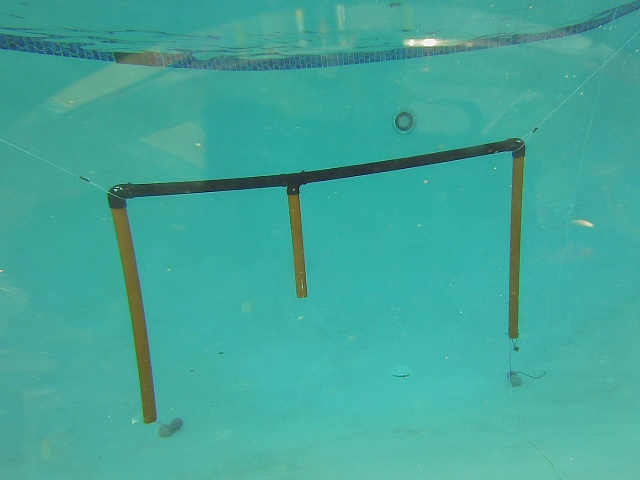Gate: (106, 203, 160, 425), (502, 152, 526, 342), (287, 185, 298, 301)
